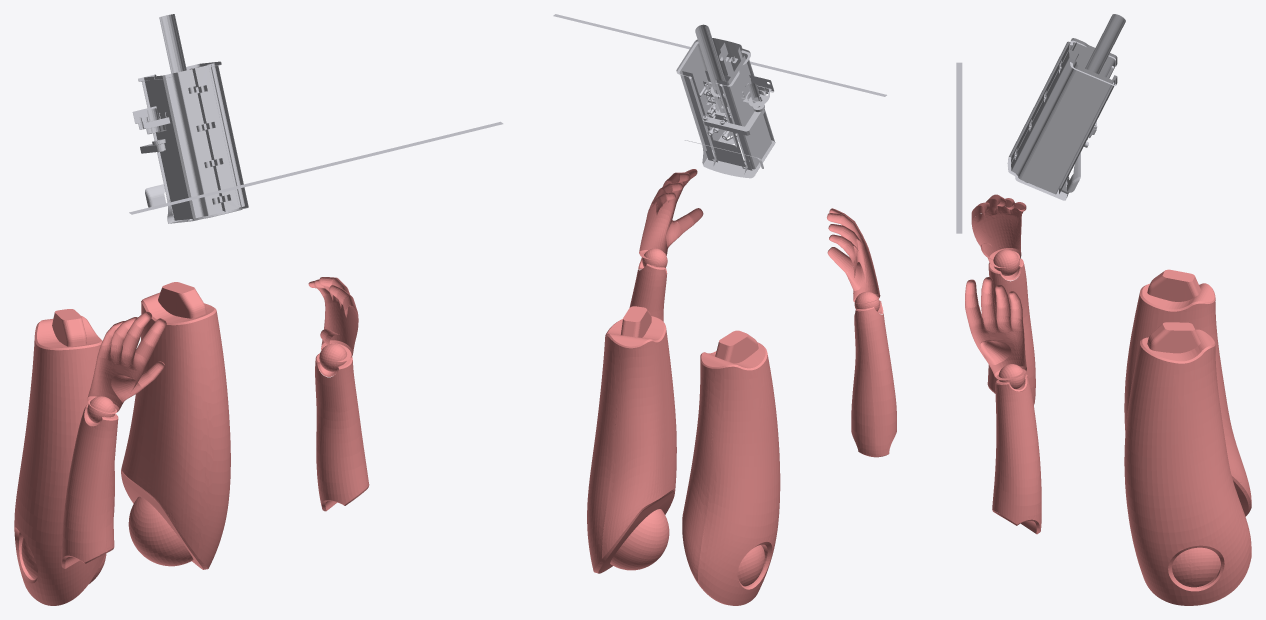
File: _debug.glb
The picture shows the model from 3 angles, left to right: view 1: azimuth 30°, elevation 25°; view 2: azimuth 150°, elevation 25°; view 3: azimuth 270°, elevation 25°; orthographic projection. The views are drawn at different scales.
Visible parts, largest first — view 1: obj_588_图层 01, obj_589_图层 01, obj_406_默认, obj_636_图层 01, obj_639_图层 01, obj_637_图层 01, obj_638_图层 01, obj_34_默认, obj_545_默认; view 2: obj_589_图层 01, obj_588_图层 01, obj_406_默认, obj_636_图层 01, obj_638_图层 01, obj_637_图层 01, obj_639_图层 01, obj_34_默认, obj_545_默认, obj_405_默认, obj_224_默认; view 3: obj_588_图层 01, obj_406_默认, obj_639_图层 01, obj_589_图层 01, obj_638_图层 01, obj_637_图层 01, obj_636_图层 01, obj_34_默认, obj_545_默认.
Part boxes in pixels (box(x1,y1,x2,y2)): obj_588_图层 01: box(121, 282, 230, 569); obj_589_图层 01: box(14, 309, 114, 605); obj_406_默认: box(138, 61, 248, 223); obj_636_图层 01: box(61, 396, 118, 568); obj_639_图层 01: box(315, 343, 369, 511); obj_637_图层 01: box(87, 311, 166, 414); obj_638_图层 01: box(308, 277, 358, 361); obj_34_默认: box(129, 121, 503, 214); obj_545_默认: box(161, 14, 184, 73); obj_589_图层 01: box(682, 330, 780, 605); obj_588_图层 01: box(587, 306, 676, 573); obj_406_默认: box(676, 38, 775, 178); obj_636_图层 01: box(851, 291, 896, 457); obj_638_图层 01: box(639, 169, 703, 259); obj_637_图层 01: box(827, 208, 880, 303); obj_639_图层 01: box(629, 248, 667, 321); obj_34_默认: box(553, 14, 886, 96); obj_545_默认: box(697, 26, 736, 138); obj_405_默认: box(704, 70, 773, 109); obj_224_默认: box(703, 109, 764, 135); obj_588_图层 01: box(1124, 322, 1251, 605); obj_406_默认: box(1007, 38, 1117, 200); obj_639_图层 01: box(992, 364, 1041, 534); obj_589_图层 01: box(1124, 269, 1251, 516); obj_638_图层 01: box(965, 277, 1026, 380); obj_637_图层 01: box(971, 194, 1026, 267); obj_636_图层 01: box(987, 249, 1035, 404); obj_34_默认: box(956, 62, 962, 233); obj_545_默认: box(1087, 15, 1124, 73).
Size of the model in its own units: 796 by 1056 by 505.
